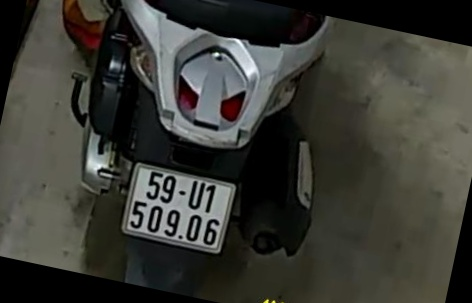plate: (117, 156, 236, 256)
